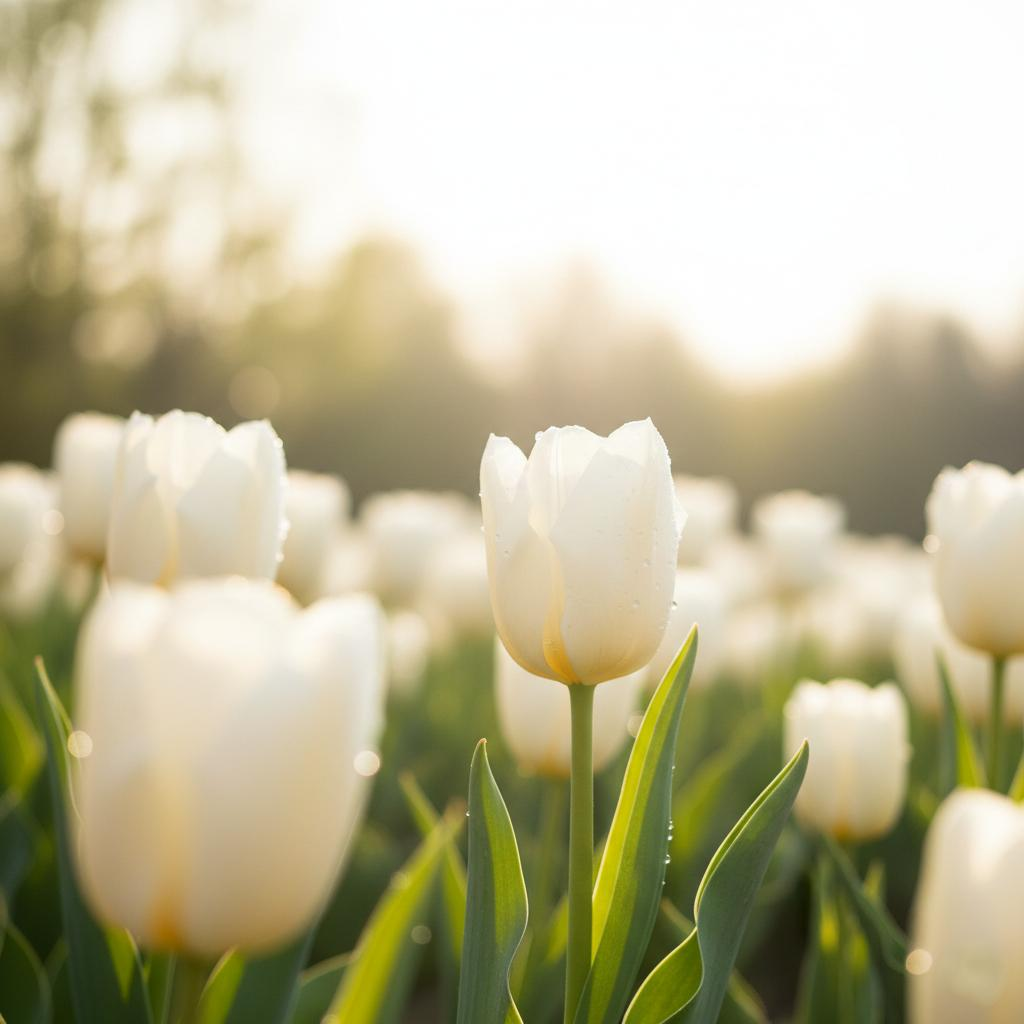tulip: (0, 385, 1024, 1024)
